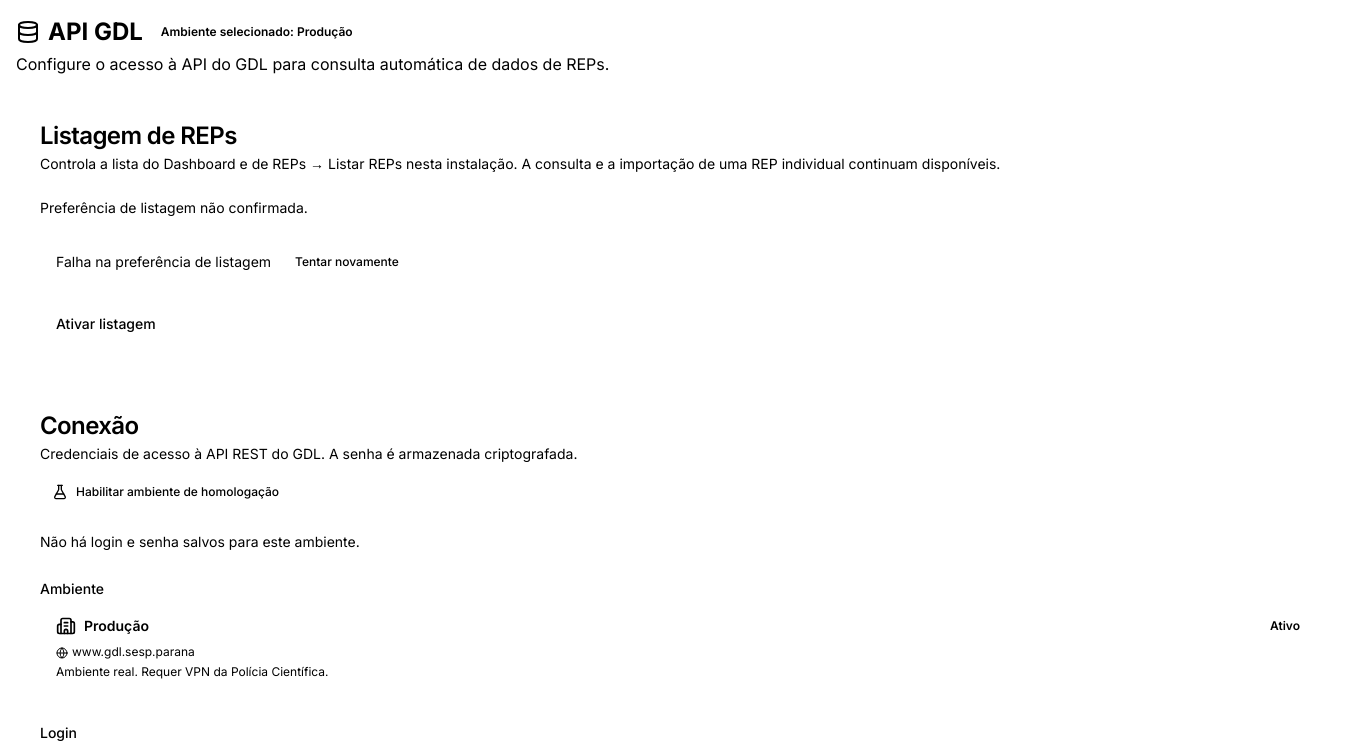
Test: GdlConfigPage › mantém a preferência de listagem independente e oferece nova tentativa
Expected: the text "Falha na preferência de listagem" is shown, [56,253,271,270]
Expected: the text "Preferência de listagem não confirmada." is shown, [40,199,308,216]
Click the button "Tentar novamente".
click(347, 262)  # box [283,246,411,278]
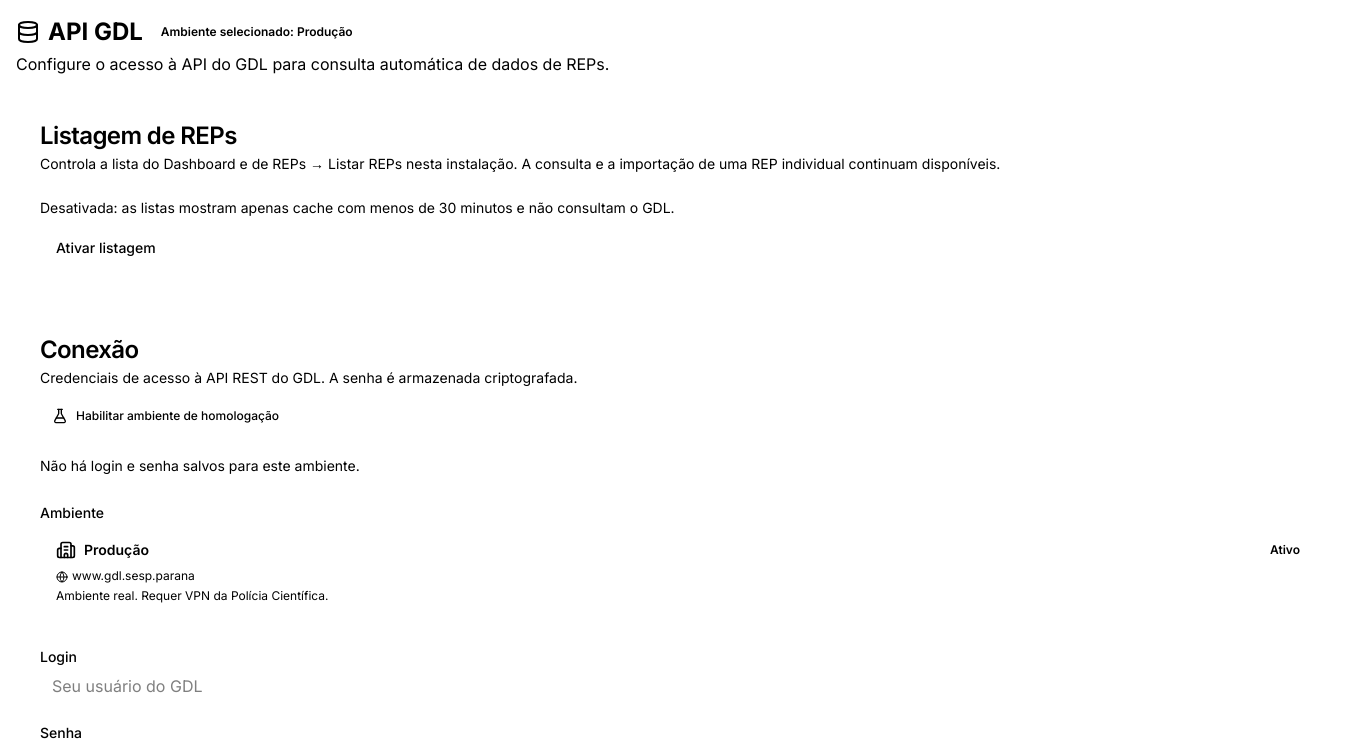
Result: the button "Ativar listagem" is enabled at [40,230,172,266]
